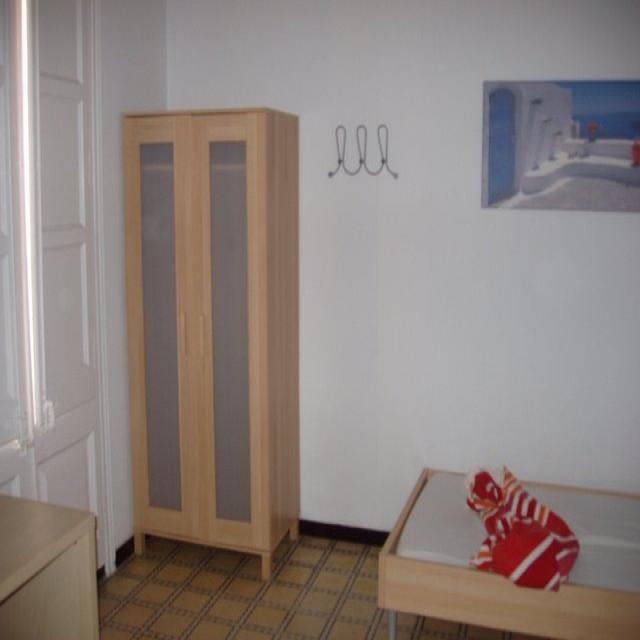bed -occluded-: (379, 467, 639, 637)
cabinet door: (2, 489, 97, 608)
closet crop: (124, 108, 302, 580)
clothes-hook: (329, 120, 400, 181)
door bars: (1, 0, 117, 607)
pavement: (62, 500, 639, 608)
picture crop: (481, 80, 639, 215)
sweater: (465, 464, 579, 591)
wall clock: (108, 0, 638, 551)
